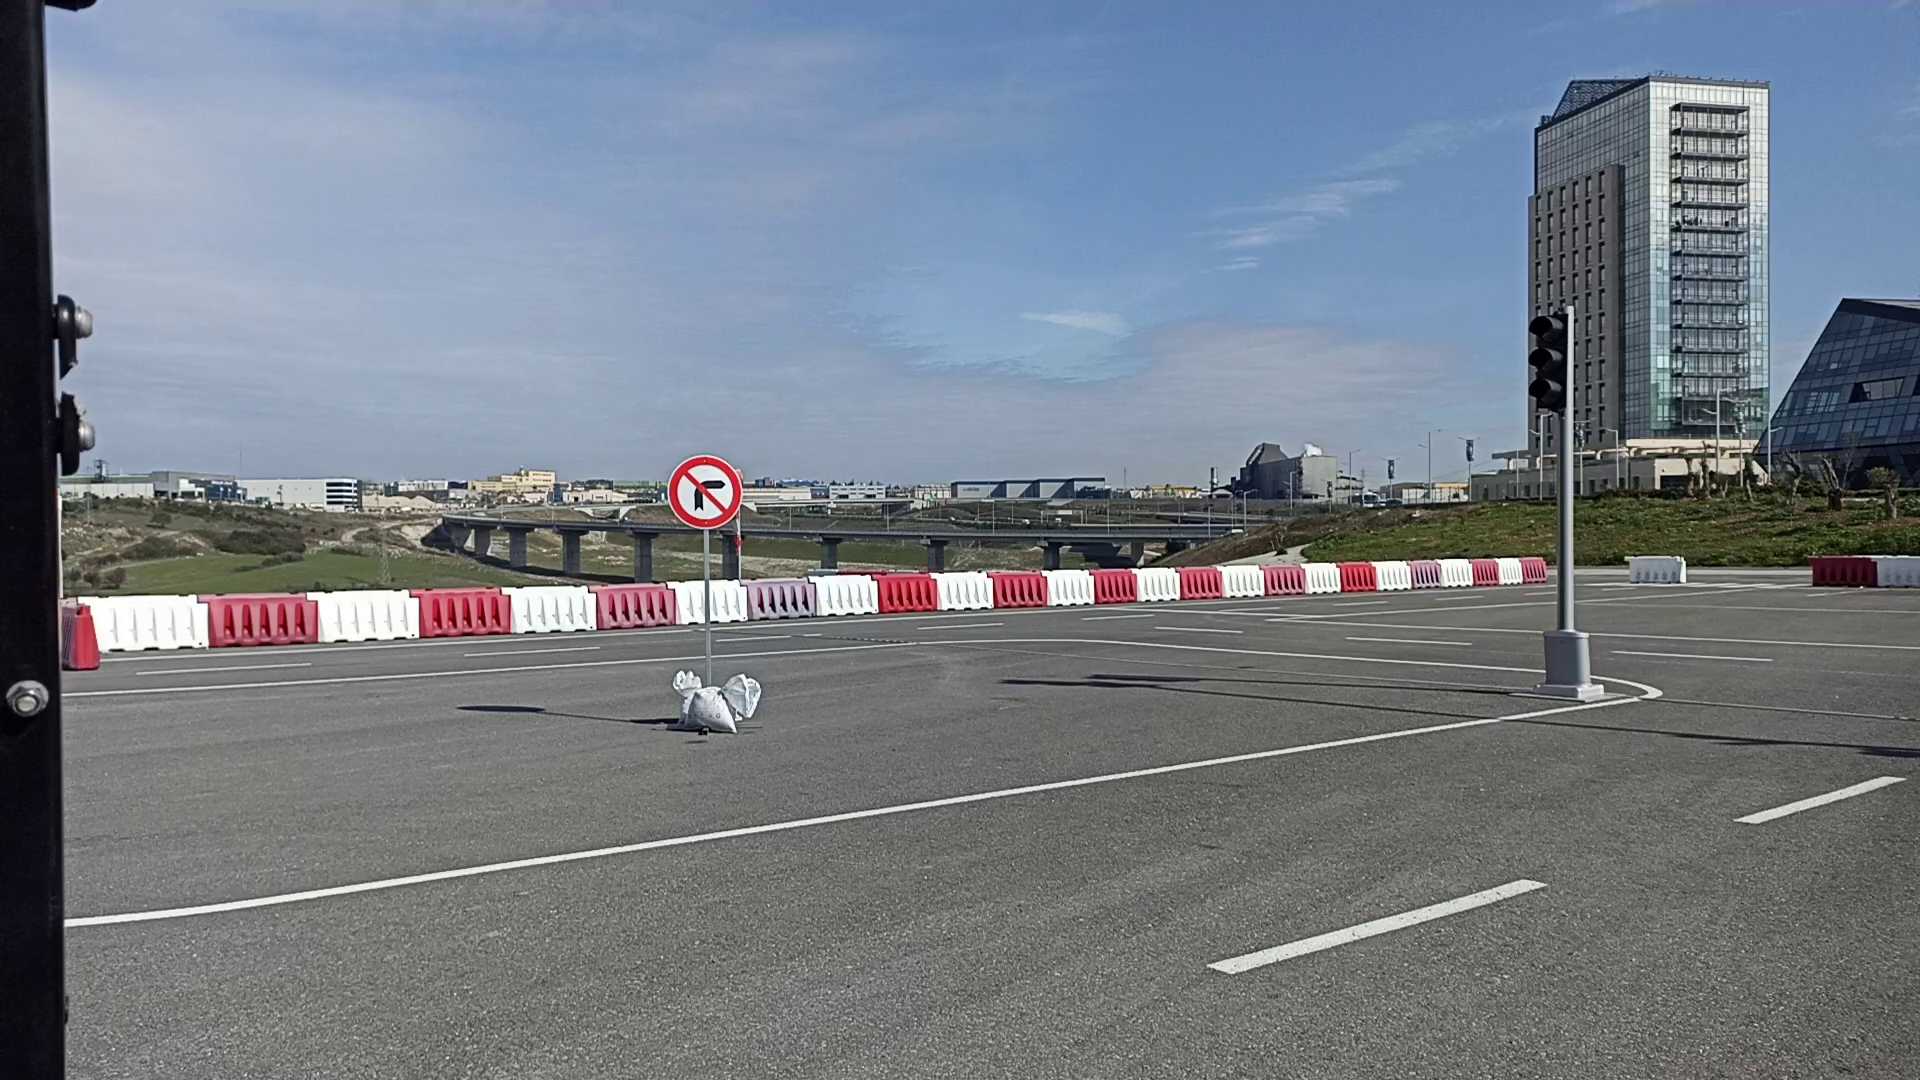noleftturn: (665, 454, 746, 533)
trafficlight: (1526, 305, 1575, 415)
